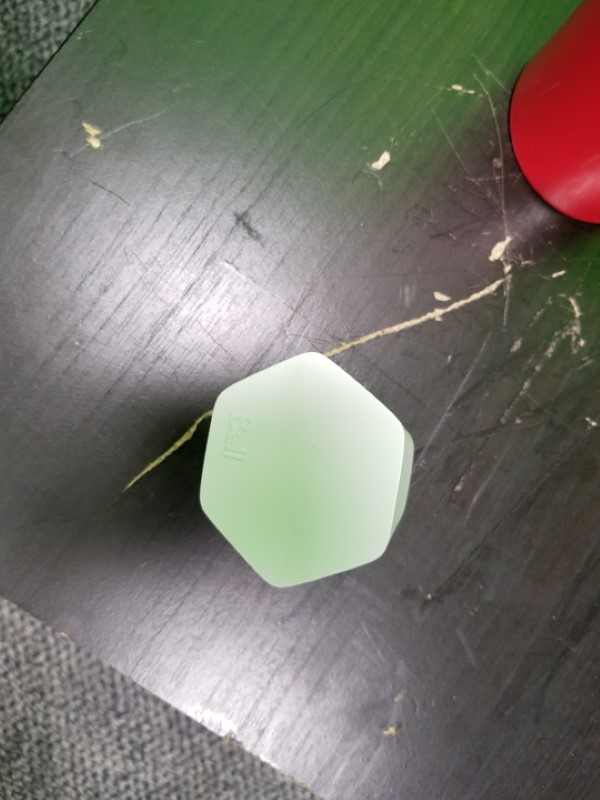pod: (188, 347, 421, 600)
